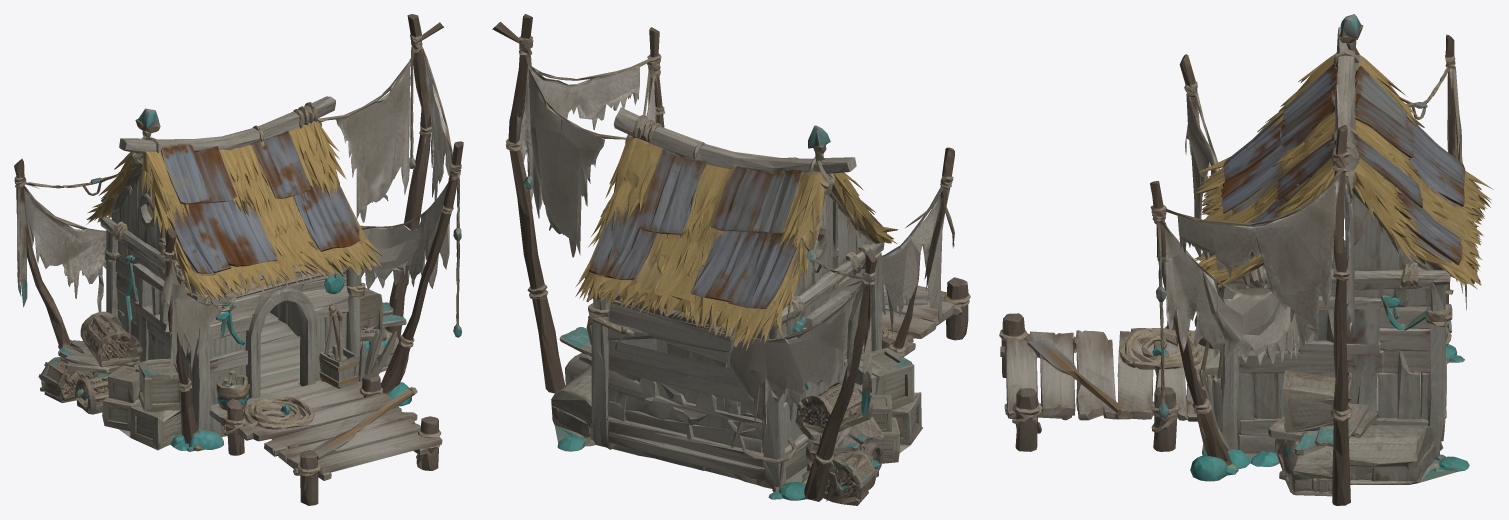
The model's file is fishing_shack.glb.
3 renders of one model, left to right at view 1: azimuth 30°, elevation 25°; view 2: azimuth 150°, elevation 25°; view 3: azimuth 270°, elevation 25°, orthographic. The views are drawn at different scales.
Visible parts, largest first — view 1: Mesh_0; view 2: Mesh_0; view 3: Mesh_0.
Boxes of the visible parts, <box> form: Mesh_0: <box>14,14,463,505</box>; Mesh_0: <box>492,14,970,505</box>; Mesh_0: <box>999,14,1493,505</box>.
Bounding box in the file's own units: 1.88 × 1.53 × 1.76.
Materials: 1 (1 with a texture image).
